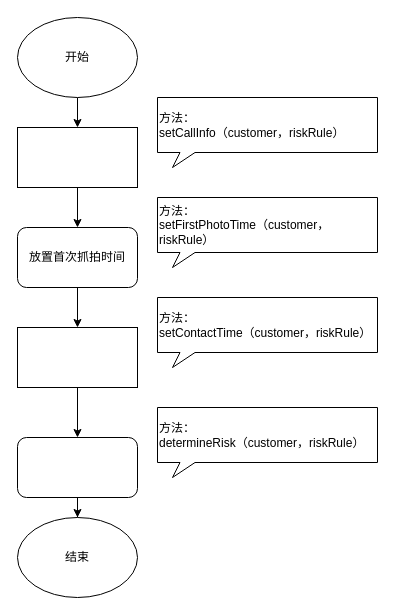
The diagram is 395 pixels wide and 615 high, and some of its shapes have lost their labels. The centre of each missing label's shape, as x and y in pixels:
"判客" belongs at (x=77, y=467).
"放置客户来去电信息[一般来说，都不会开启]" belongs at (x=77, y=157).
"放置首次接触时间" belongs at (x=77, y=357).
